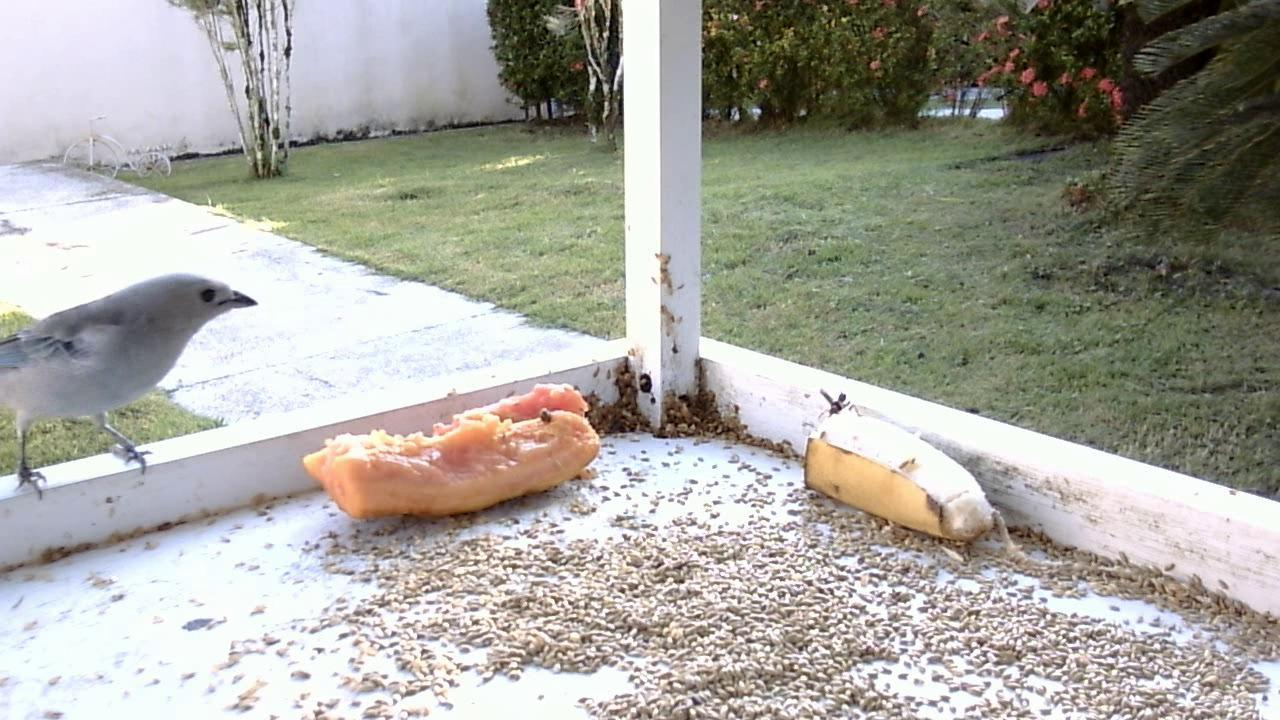sanhaco_da_amazonia: (3, 267, 261, 505)
